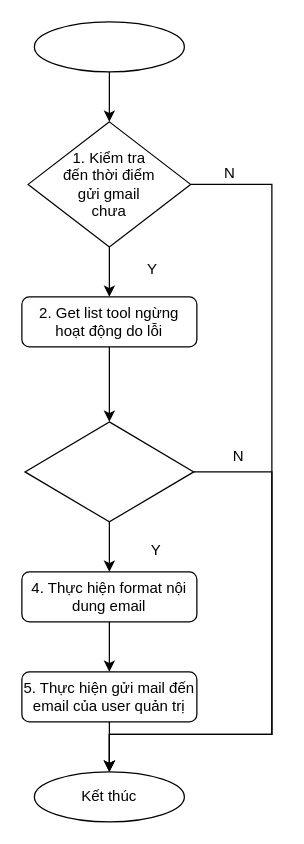
This 304x844 diagram has some shape labels left out. Here are the shapes that lost their labels. From the top down, the centre of each, then its label:
the point at 108,46: Bắt đầu
the point at 109,471: 3. Số phần tử trong list tool > 0
